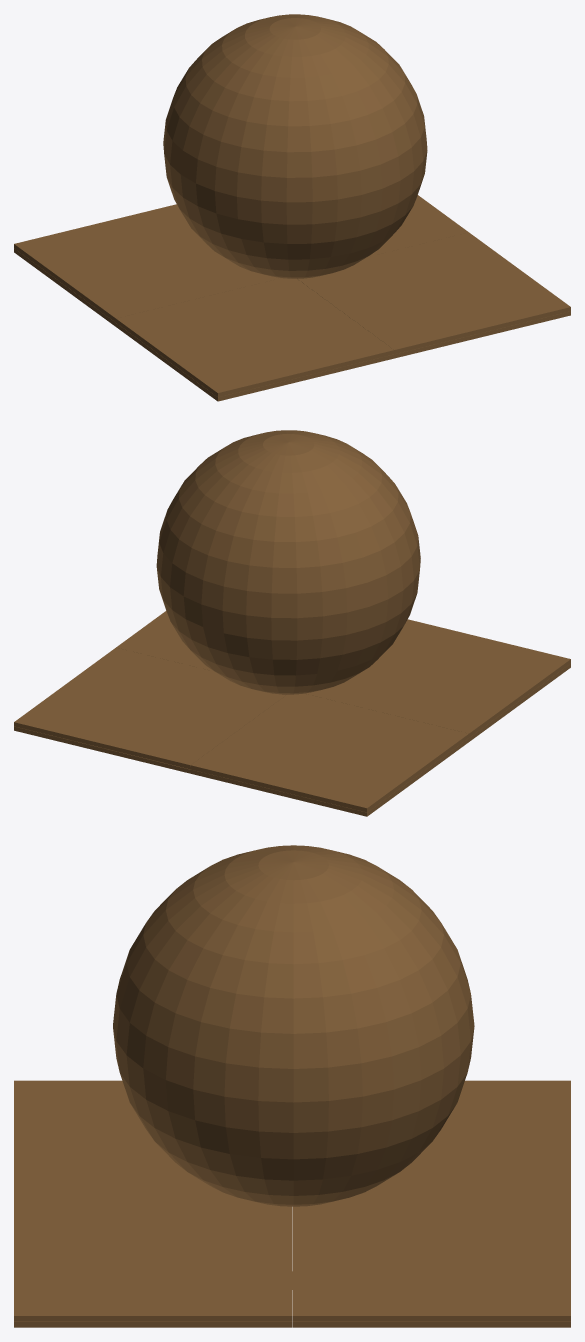
Rendered from POTOLaiBolno.fbx.
The picture shows the model from 3 angles, top to bottom: view 1: azimuth 30°, elevation 25°; view 2: azimuth 150°, elevation 25°; view 3: azimuth 270°, elevation 25°; orthographic projection. The views are drawn at different scales.
Visible parts, largest first — view 1: Sphere, Cube_cell.001, Cube_cell.005, Cube_cell.003, Cube_cell.007, Cube_cell, Cube_cell.004, Cube_cell.002; view 2: Sphere, Cube_cell.003, Cube_cell.007, Cube_cell.001, Cube_cell.005, Cube_cell.002, Cube_cell.006, Cube_cell; view 3: Sphere, Cube_cell.005, Cube_cell.007, Cube_cell.001, Cube_cell.003, Cube_cell.004, Cube_cell.006.
Boxes of the visible parts, bbox=[...] form: Sphere: bbox=[163, 14, 427, 278]; Cube_cell.001: bbox=[116, 278, 394, 396]; Cube_cell.005: bbox=[297, 232, 570, 354]; Cube_cell.003: bbox=[14, 204, 281, 322]; Cube_cell.007: bbox=[367, 195, 468, 257]; Cube_cell: bbox=[116, 323, 394, 401]; Cube_cell.004: bbox=[394, 311, 570, 358]; Cube_cell.002: bbox=[14, 248, 115, 326]; Sphere: bbox=[156, 430, 420, 694]; Cube_cell.003: bbox=[190, 693, 468, 812]; Cube_cell.007: bbox=[14, 647, 286, 769]; Cube_cell.001: bbox=[305, 619, 570, 737]; Cube_cell.005: bbox=[116, 611, 214, 671]; Cube_cell.002: bbox=[190, 738, 468, 816]; Cube_cell.006: bbox=[14, 726, 190, 773]; Cube_cell: bbox=[469, 663, 570, 741]; Sphere: bbox=[113, 845, 474, 1206]; Cube_cell.005: bbox=[14, 1198, 292, 1321]; Cube_cell.007: bbox=[292, 1198, 570, 1321]; Cube_cell.001: bbox=[14, 1080, 239, 1198]; Cube_cell.003: bbox=[347, 1080, 570, 1198]; Cube_cell.004: bbox=[14, 1321, 292, 1327]; Cube_cell.006: bbox=[292, 1321, 570, 1327].
Size of the model in its own units: 598 by 420 by 598.
